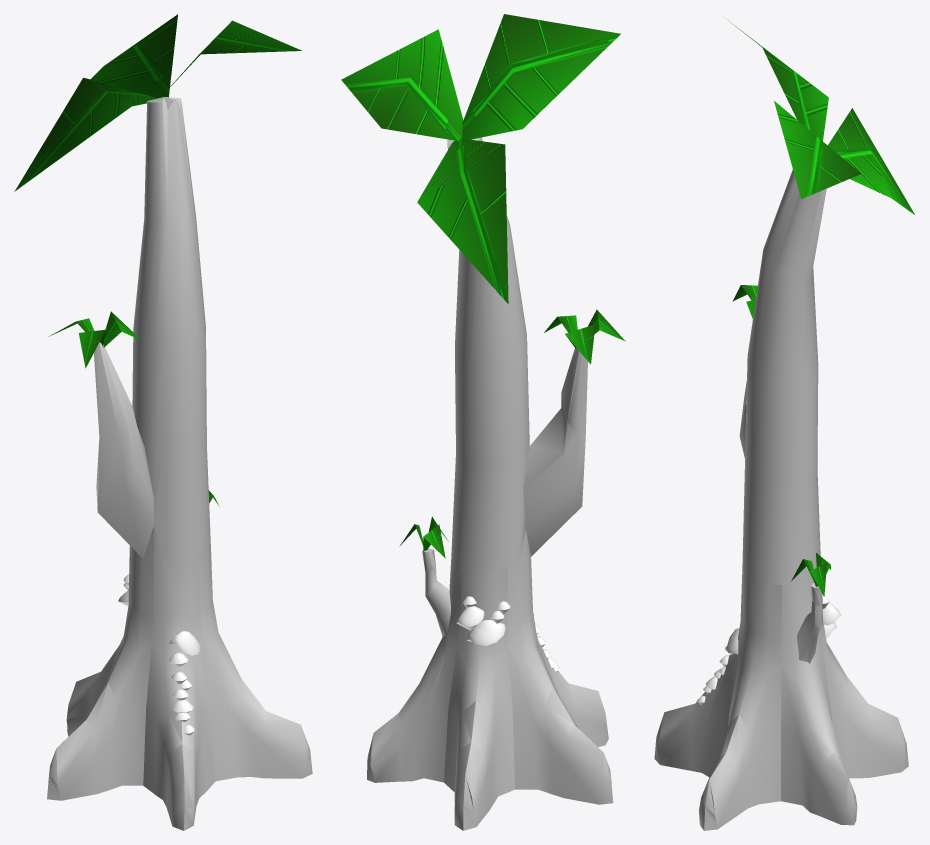
The model's file is plant5.fbx.
The picture shows the model from 3 angles, left to right: view 1: azimuth 30°, elevation 25°; view 2: azimuth 150°, elevation 25°; view 3: azimuth 270°, elevation 25°; orthographic projection. The views are drawn at different scales.
Parts seen in each view (by area): view 1: Default_Layer; view 2: Default_Layer; view 3: Default_Layer.
Boxes of the visible parts, x1,y1,x2,y2 form: Default_Layer: (14, 14, 312, 830); Default_Layer: (341, 14, 625, 830); Default_Layer: (654, 18, 914, 830).
Size of the model in its own units: 167 by 459 by 148.
